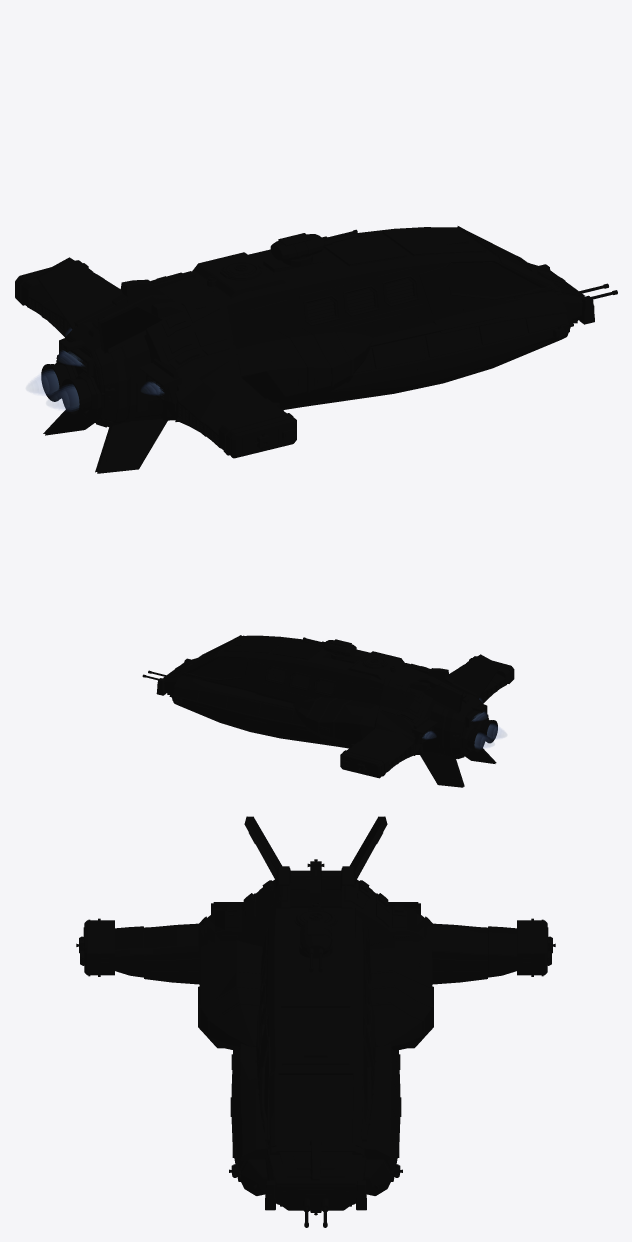
Rendered from plume_t050_occ.glb.
3 views of the same model, one above another, from view 1: azimuth 30°, elevation 25°; view 2: azimuth 150°, elevation 25°; view 3: azimuth 270°, elevation 25° (orthographic). The views are drawn at different scales.
Visible parts, largest first — view 1: HullOccluder; view 2: HullOccluder; view 3: HullOccluder.
Boxes of the visible parts, x1=… form: HullOccluder: x1=15, y1=226, x2=617, y2=473; HullOccluder: x1=142, y1=635, x2=514, y2=787; HullOccluder: x1=76, y1=816, x2=555, y2=1227.
Size of the model in its own units: 18.25 by 5.33 by 12.99.
Materials: 3 (2 with a texture image).
